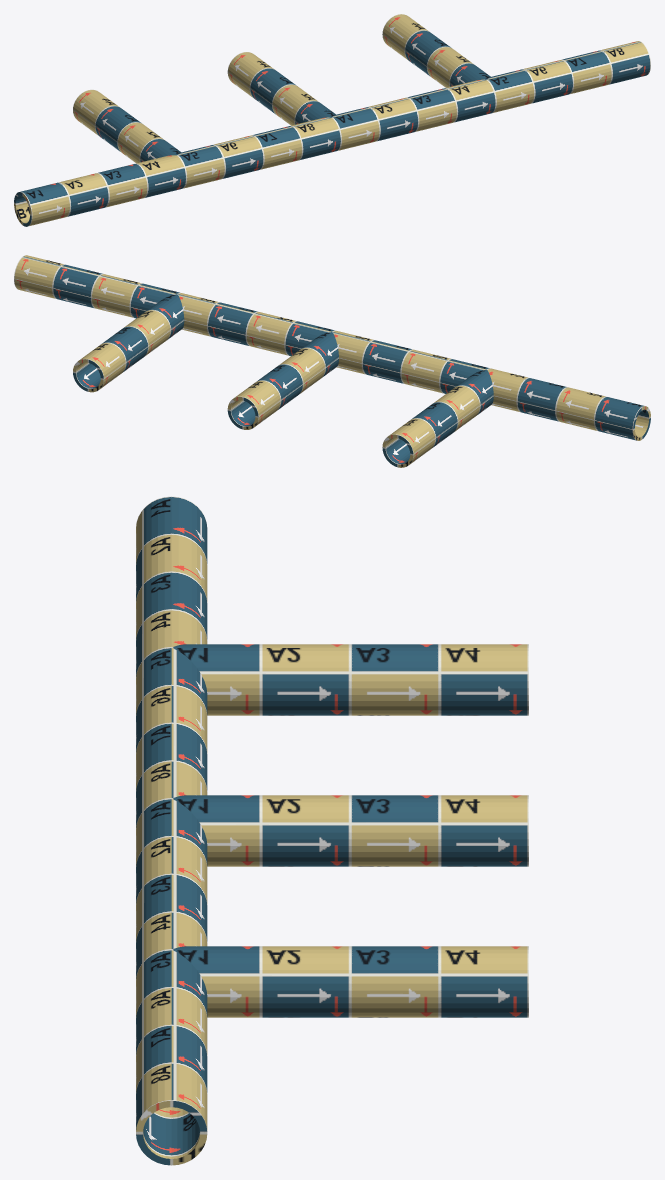
The model's file is PIPE_Manifold.fbx.
3 views of the same model, one above another, from view 1: azimuth 30°, elevation 25°; view 2: azimuth 150°, elevation 25°; view 3: azimuth 270°, elevation 25° (orthographic). The views are drawn at different scales.
Parts seen in each view (by area): view 1: PIPE_Manifold; view 2: PIPE_Manifold; view 3: PIPE_Manifold.
Part boxes in pixels (bbox=[...]): PIPE_Manifold: bbox=[14, 14, 650, 226]; PIPE_Manifold: bbox=[14, 255, 650, 467]; PIPE_Manifold: bbox=[136, 496, 528, 1165].
Size of the model in its own units: 400 by 20 by 110.
1 material, 1 textured.
